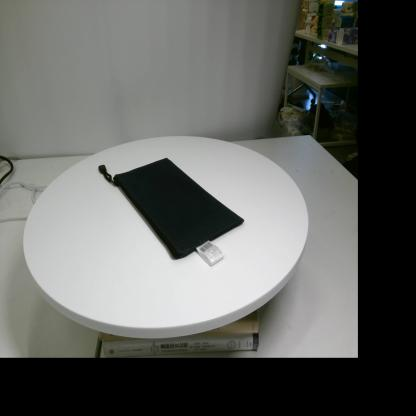Stationery: (98, 158, 244, 266)
